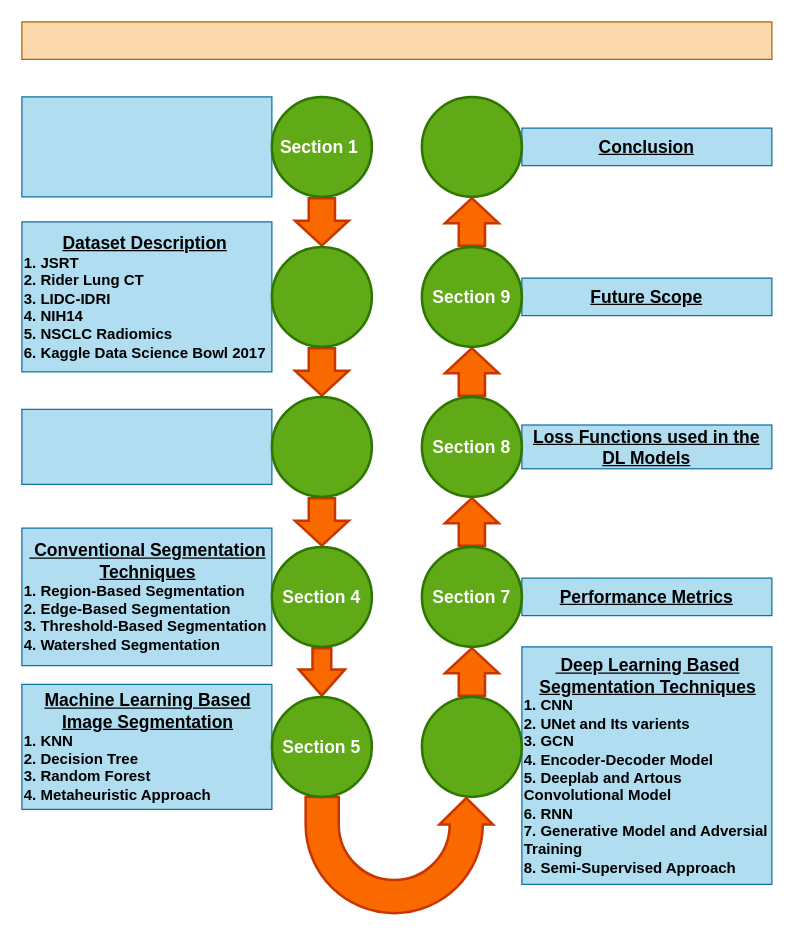
This 794x936 diagram has some shape labels left out. The shapes that lost their labels are listed below. From the top down, each one's box as (x1, y1, x2, y2) in pixels, then its label:
(21, 21, 772, 59): Survey Paper Roadmap
(21, 96, 272, 197): Introduction 1. Background 2. Motivation 3. Objective 4. Structure of the paper
(420, 95, 522, 198): Section 10
(270, 245, 372, 348): Section 2
(21, 408, 272, 484): Image Modalities 1. CT Images 2. X-Ray Image 3. Histopathology Image
(270, 395, 372, 498): Section 3
(420, 695, 522, 798): Section 6
